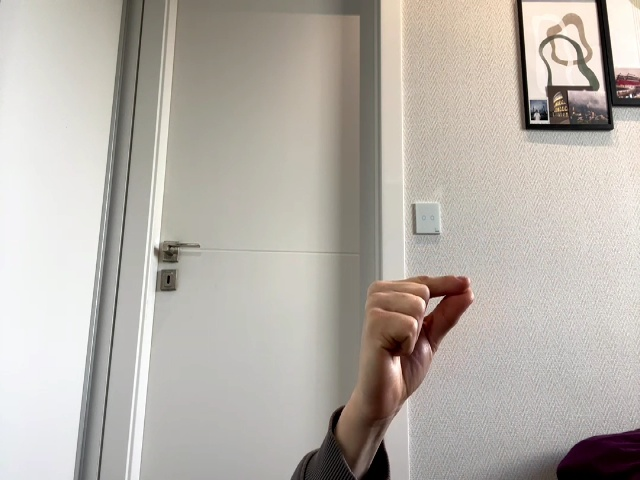P: (363, 275, 474, 400)
